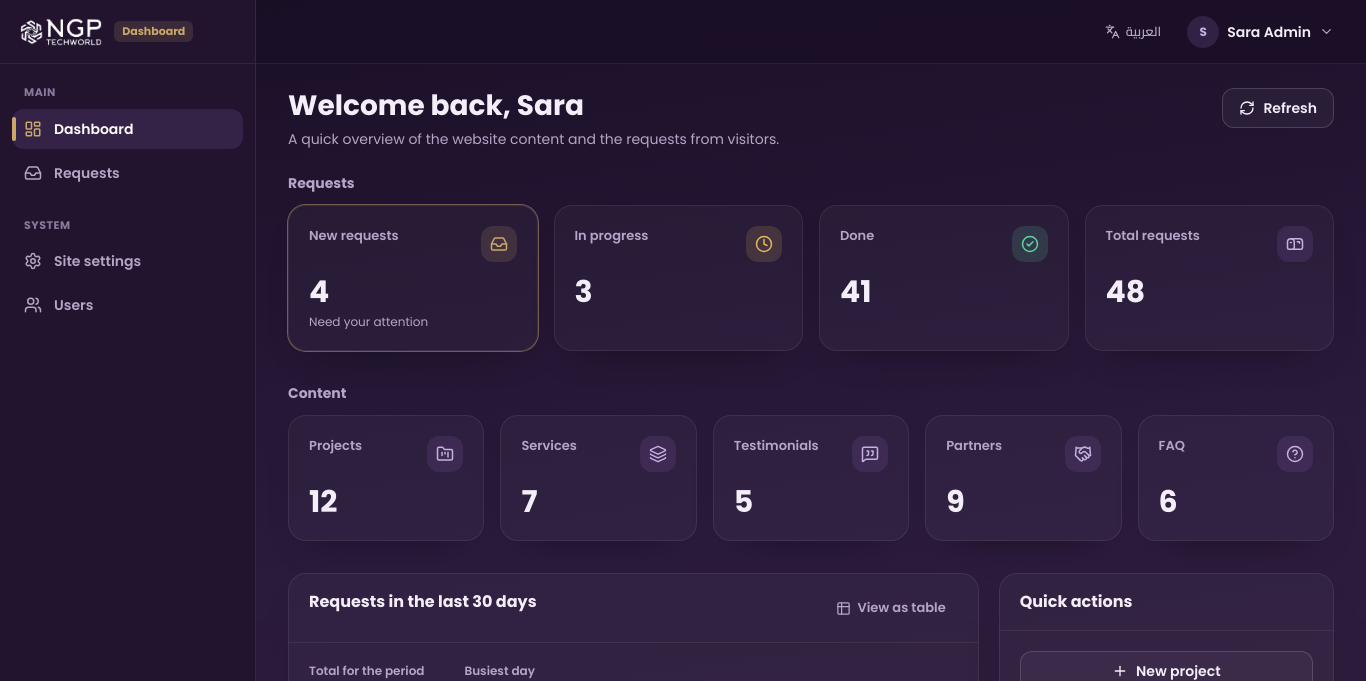
Test case: dashboard, requests, settings and users inside the app shell › the top bar "My account" link goes straight to /account; the Users list also has a card leading there
This screenshot has width=1366, height=681.
Check: the heading "Welcome back, Sara" is shown, box [288,86,584,125]
Click the button with aria-label "Account menu" at (1261, 32), box [1179,10,1342,54]
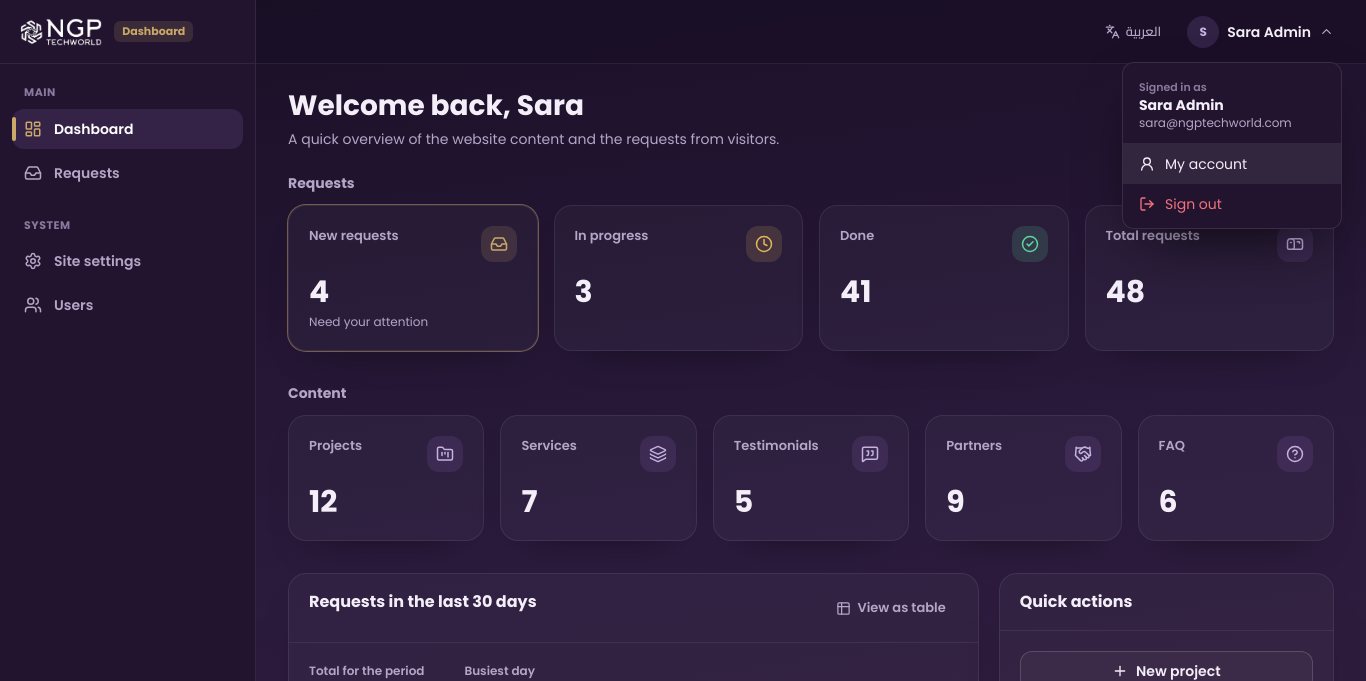
Click the menu item "My account" at (1232, 164), box [1123,144,1341,184]
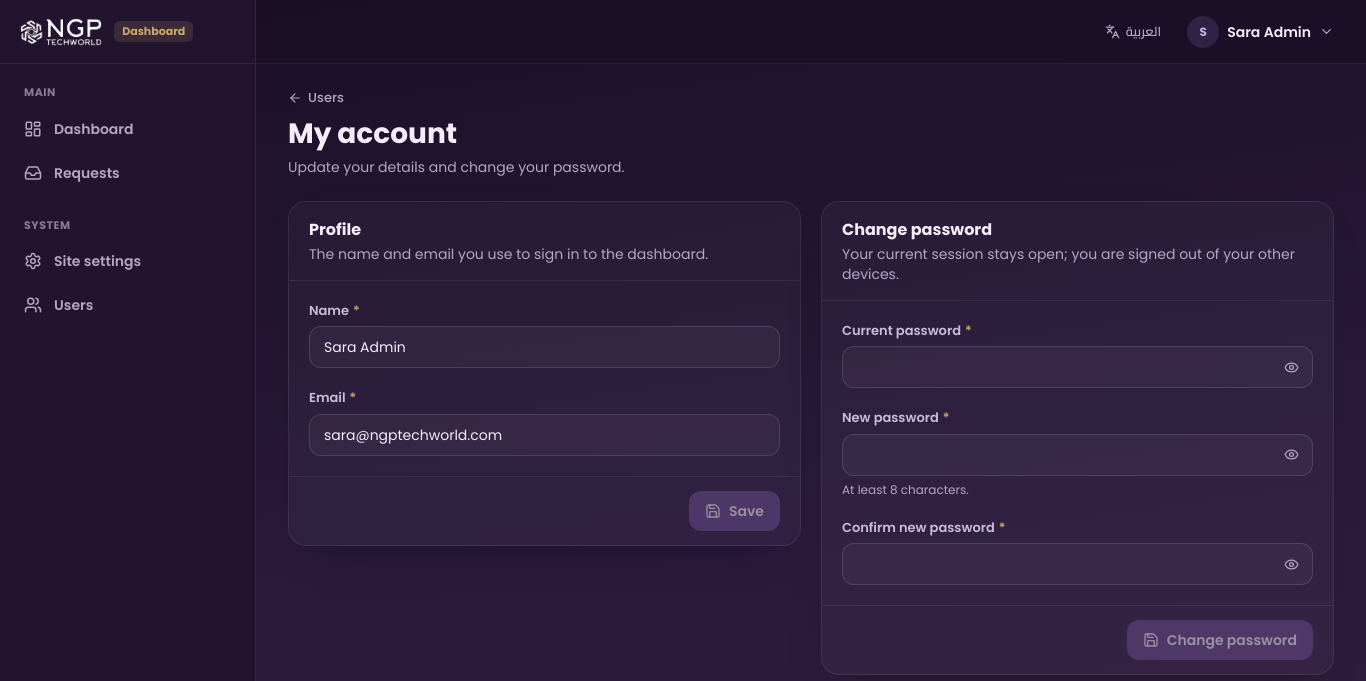
Check: the heading "My account" is shown, box [288,114,457,153]
Check: the field labelled "Name *" holds "Sara Admin", box [309,326,780,368]
Click the link "Users" below "Site settings" at (59, 305), box [24,295,93,315]
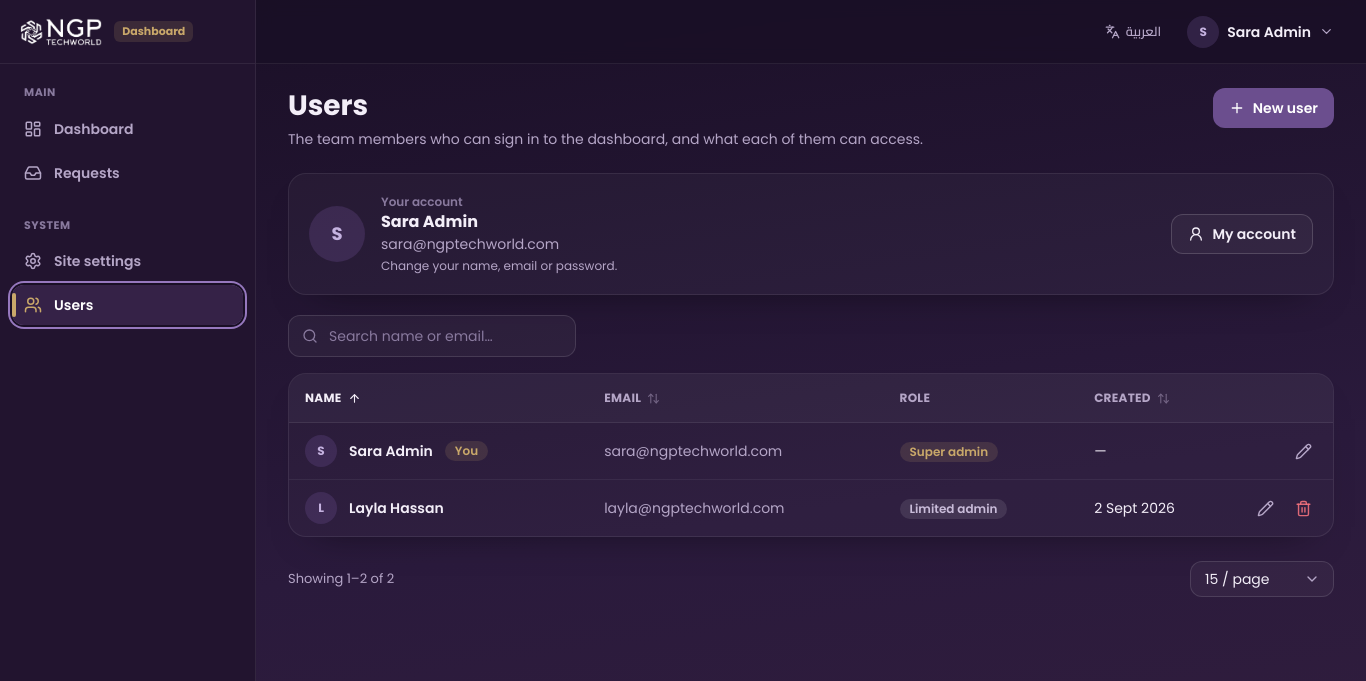
Check: the heading "Users" is shown, box [288,86,368,125]
Click the link "My account" at (1242, 234), box [1171,214,1313,254]
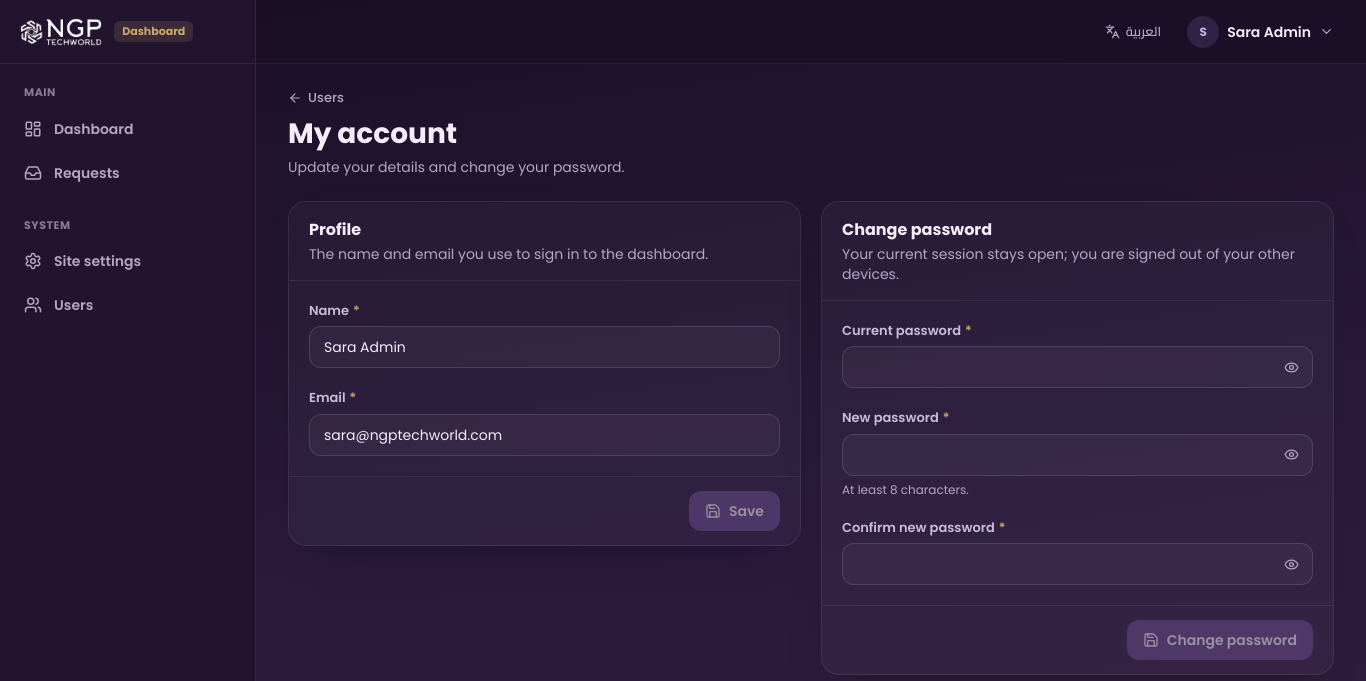
Check: the heading "My account" is shown, box [288,114,457,153]
